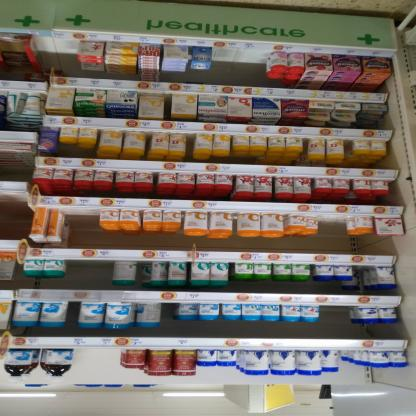empty_space: (206, 50, 268, 85), (72, 349, 121, 384), (1, 191, 31, 239), (66, 260, 114, 290), (67, 209, 102, 249), (316, 213, 350, 254), (317, 306, 355, 338), (43, 40, 76, 70)
